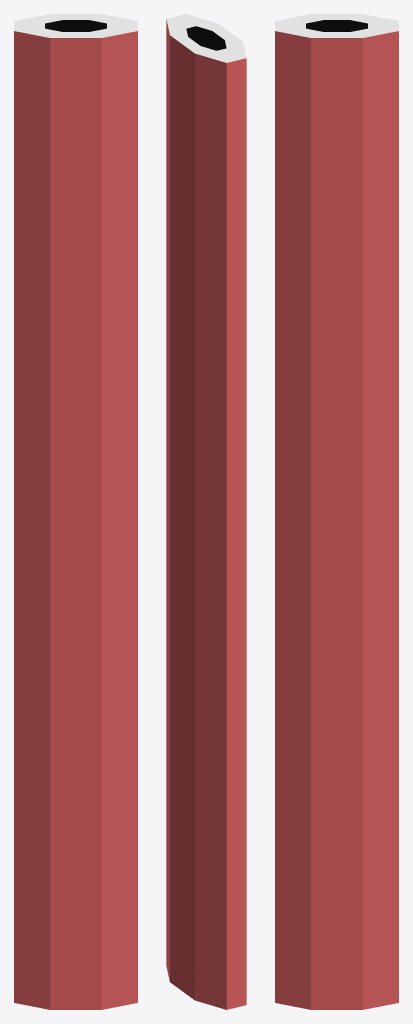
Rendered from pencil01.obj.
3 renders of one model, left to right at view 1: azimuth 90°, elevation 25°; view 2: azimuth 210°, elevation 25°; view 3: azimuth 270°, elevation 25°, orthographic. The views are drawn at different scales.
Parts seen in each view (by area): view 1: Cylinder_Cylinder.003; view 2: Cylinder_Cylinder.003; view 3: Cylinder_Cylinder.003.
Part boxes in pixels (x1,y1,x2,y2): Cylinder_Cylinder.003: [14, 14, 137, 1009]; Cylinder_Cylinder.003: [166, 14, 246, 1009]; Cylinder_Cylinder.003: [275, 14, 398, 1009].
Size of the model in its own units: 0.00656 by 0.1233 by 0.0142.
Materials: 1 (1 with a texture image).
